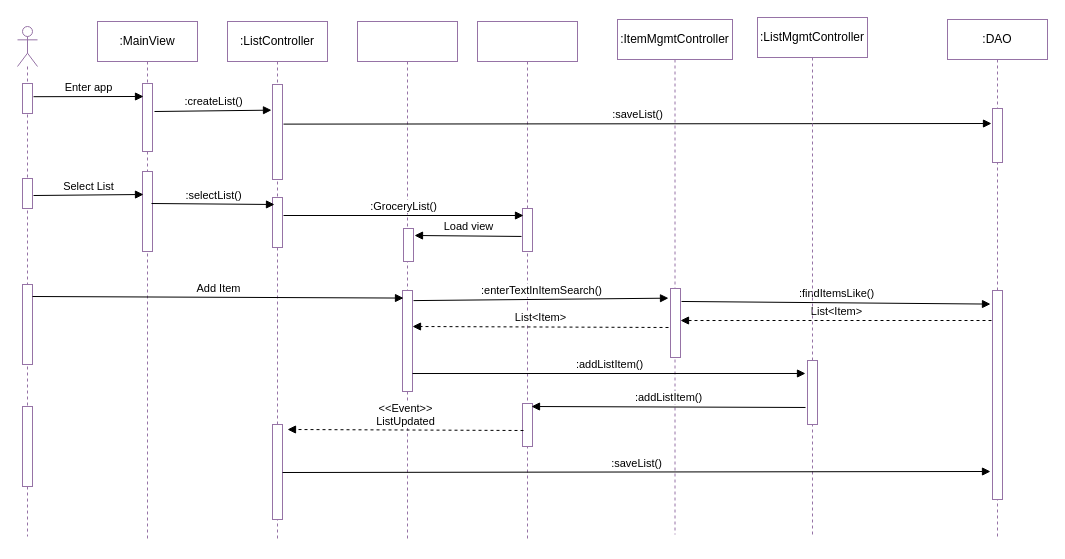
Image size: 1065x559. Some labels were removed from this diagram. The shapes that lost their labels are listed below. From the top down, each one's centre as x and y in pixels, then its label:
At [407,281]: ":GroceryListView".
At [527,281]: ":GroceryList".
